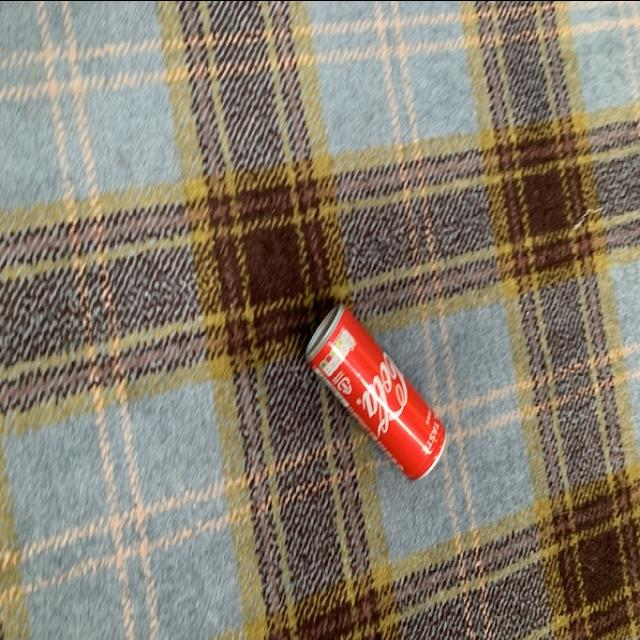litter: (306, 302, 450, 486)
